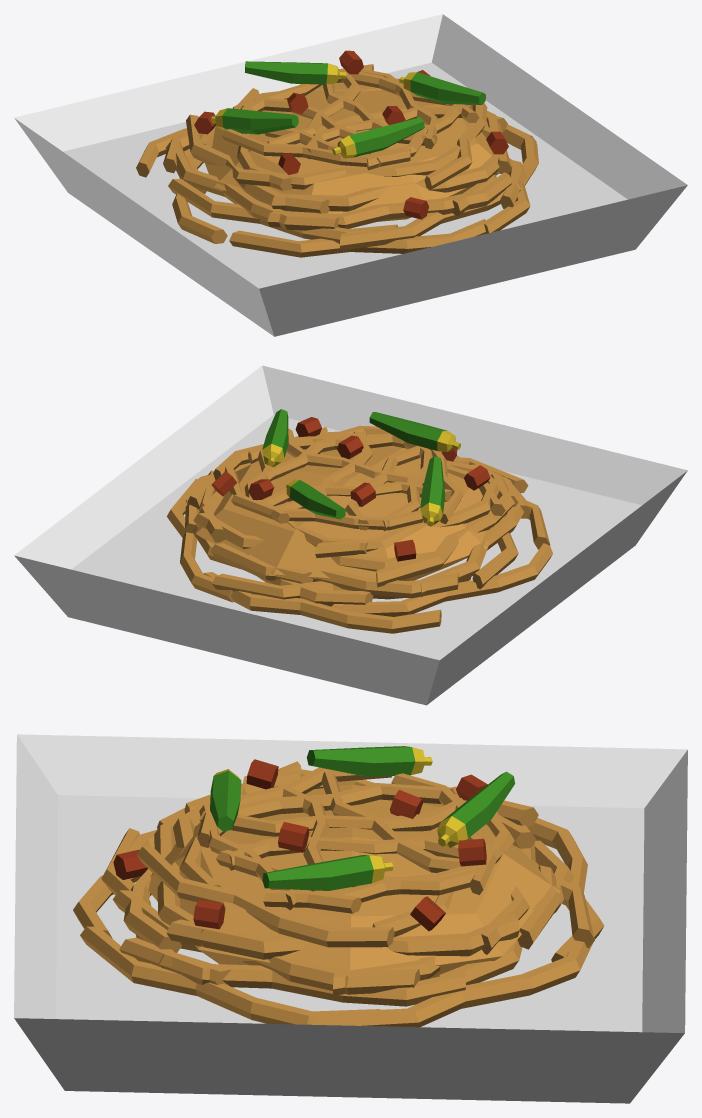
The model's file is FINAL_Pancit Canton.fbx.
3 renders of one model, top to bottom at view 1: azimuth 30°, elevation 25°; view 2: azimuth 150°, elevation 25°; view 3: azimuth 270°, elevation 25°, orthographic. The views are drawn at different scales.
Visible parts, largest first — view 1: Pancit Canton; view 2: Pancit Canton; view 3: Pancit Canton.
Boxes of the visible parts, bbox=[...] form: Pancit Canton: bbox=[14, 14, 687, 336]; Pancit Canton: bbox=[14, 365, 687, 705]; Pancit Canton: bbox=[14, 734, 687, 1103].
Bounding box in the file's own units: 94.84 × 28.97 × 94.82.
